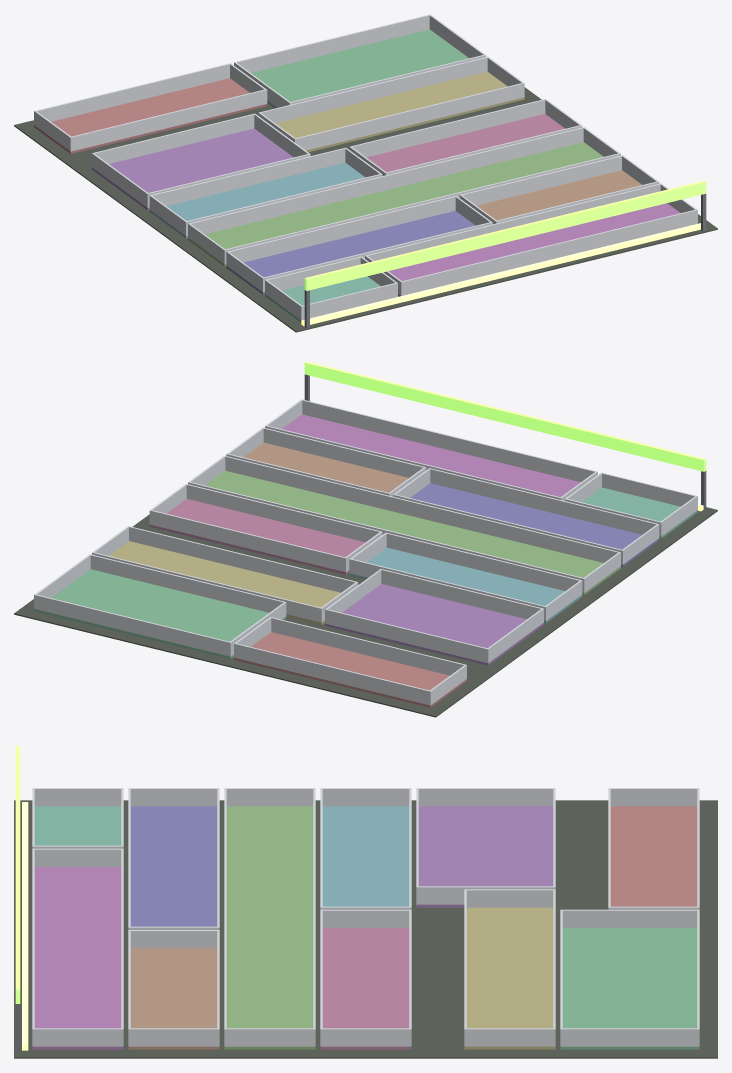
Rendered from hall-heavy-equip.glb.
3 renders of one model, top to bottom at view 1: azimuth 30°, elevation 25°; view 2: azimuth 150°, elevation 25°; view 3: azimuth 270°, elevation 25°, orthographic. The views are drawn at different scales.
Visible parts, largest first — view 1: Heavy Equipment Technicians; view 2: Heavy Equipment Technicians; view 3: Heavy Equipment Technicians.
Part boxes in pixels (x1=…): Heavy Equipment Technicians: x1=14, y1=14, x2=717, y2=332; Heavy Equipment Technicians: x1=14, y1=361, x2=717, y2=717; Heavy Equipment Technicians: x1=14, y1=746, x2=717, y2=1058.
Size of the model in its own units: 38 by 4.3 by 44.
